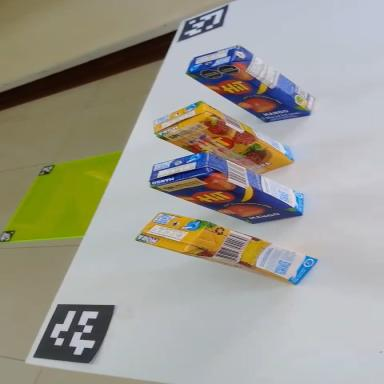HIT-MANGO: (146, 134, 310, 249), (184, 28, 320, 146)
HIT-MORA: (136, 201, 318, 297), (150, 87, 300, 192)
